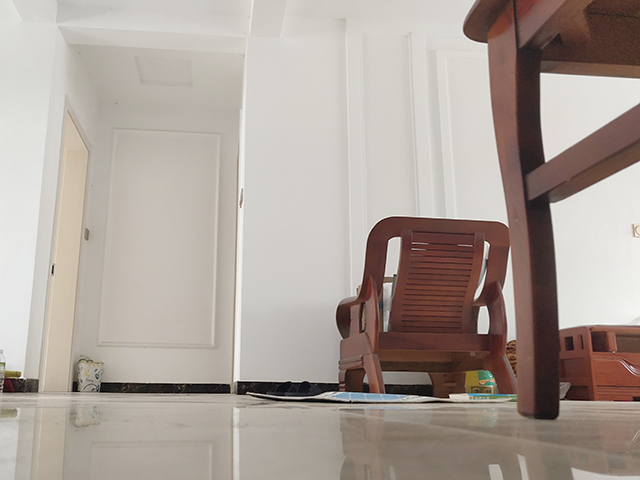book: (449, 393, 516, 404)
cabinet: (556, 323, 640, 404)
carpet: (243, 390, 518, 406)
slippers: (267, 379, 330, 398)
sofa: (334, 215, 521, 395)
stool: (462, 1, 640, 422)
trashcan: (74, 355, 106, 394)
